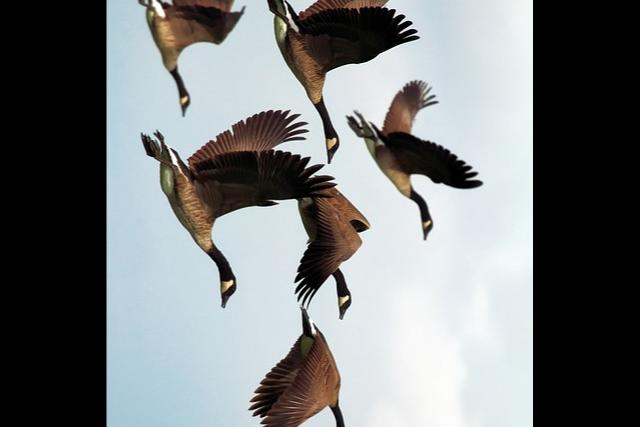Non_Gorille: (121, 0, 486, 427)
